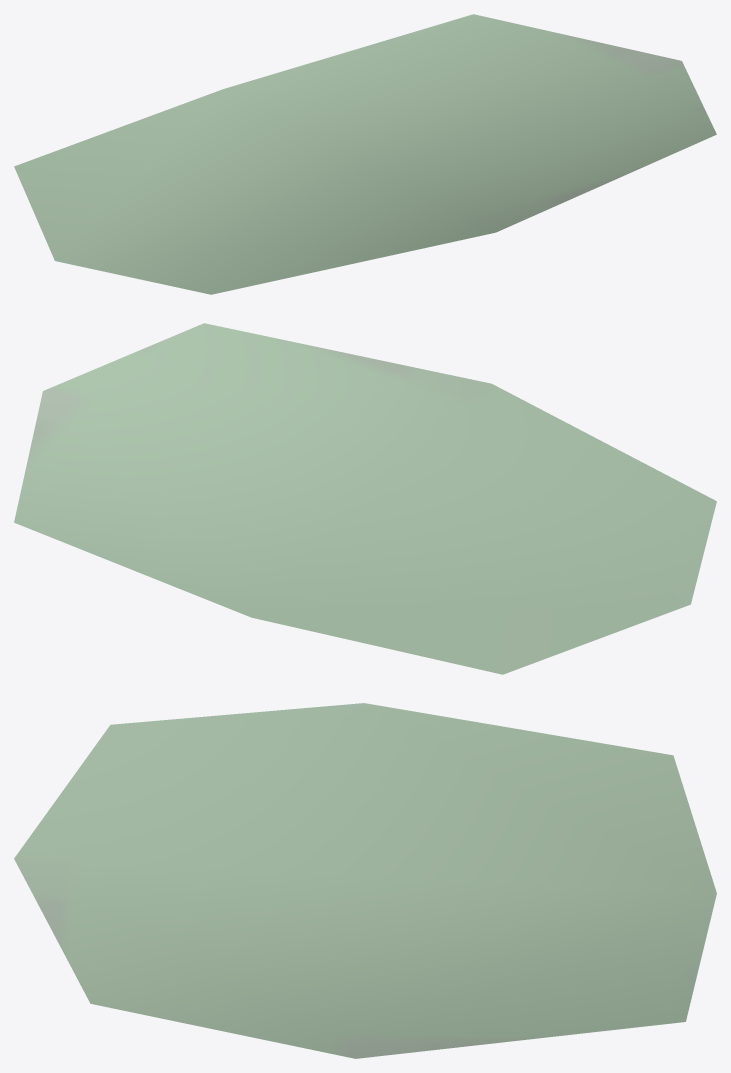
Rendered from TROLLHOLE02_HOLECAP42.fbx.
3 views of the same model, one above another, from view 1: azimuth 30°, elevation 25°; view 2: azimuth 150°, elevation 25°; view 3: azimuth 270°, elevation 25° (orthographic). The views are drawn at different scales.
Visible parts, largest first — view 1: TROLLHOLE02_HOLECAP42; view 2: TROLLHOLE02_HOLECAP42; view 3: TROLLHOLE02_HOLECAP42.
Boxes of the visible parts, <box> form: TROLLHOLE02_HOLECAP42: <box>14,14,716,294</box>; TROLLHOLE02_HOLECAP42: <box>14,323,716,674</box>; TROLLHOLE02_HOLECAP42: <box>14,703,716,1058</box>.
Size of the model in its own units: 29804 by 2910 by 20788.
1 material, 1 textured.
